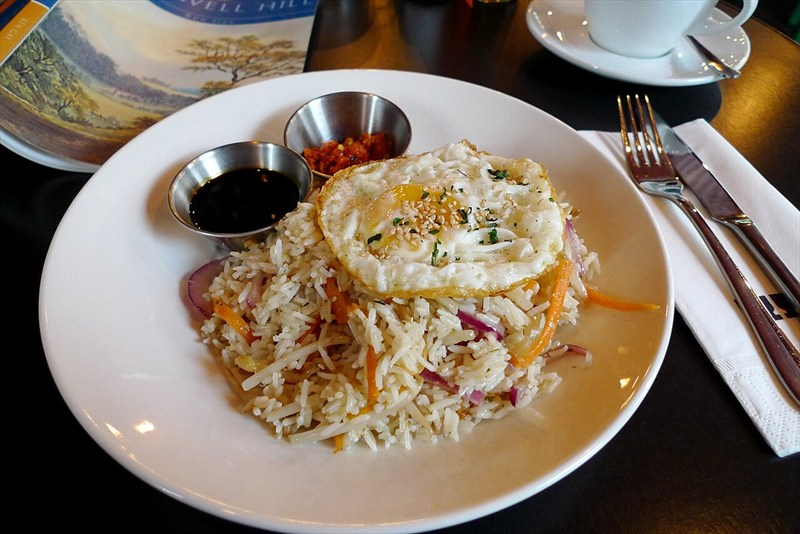Telur Balado: (137, 61, 763, 455)
